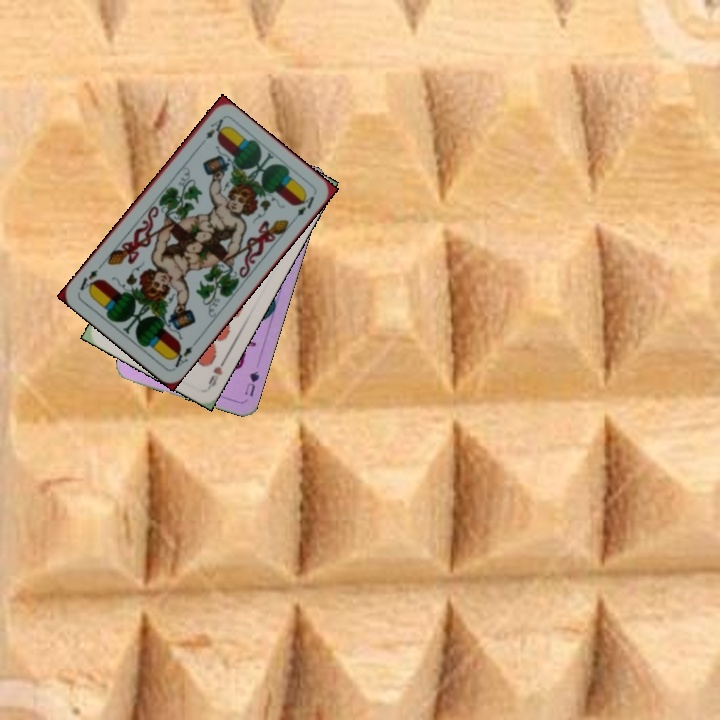EA: (166, 337, 199, 370), (202, 114, 226, 141)
GU: (240, 367, 262, 399)
H9: (204, 353, 230, 391)
